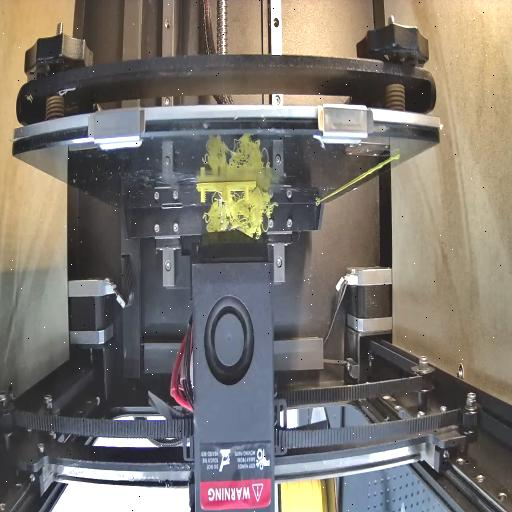spaghetti: (208, 190, 276, 240)
